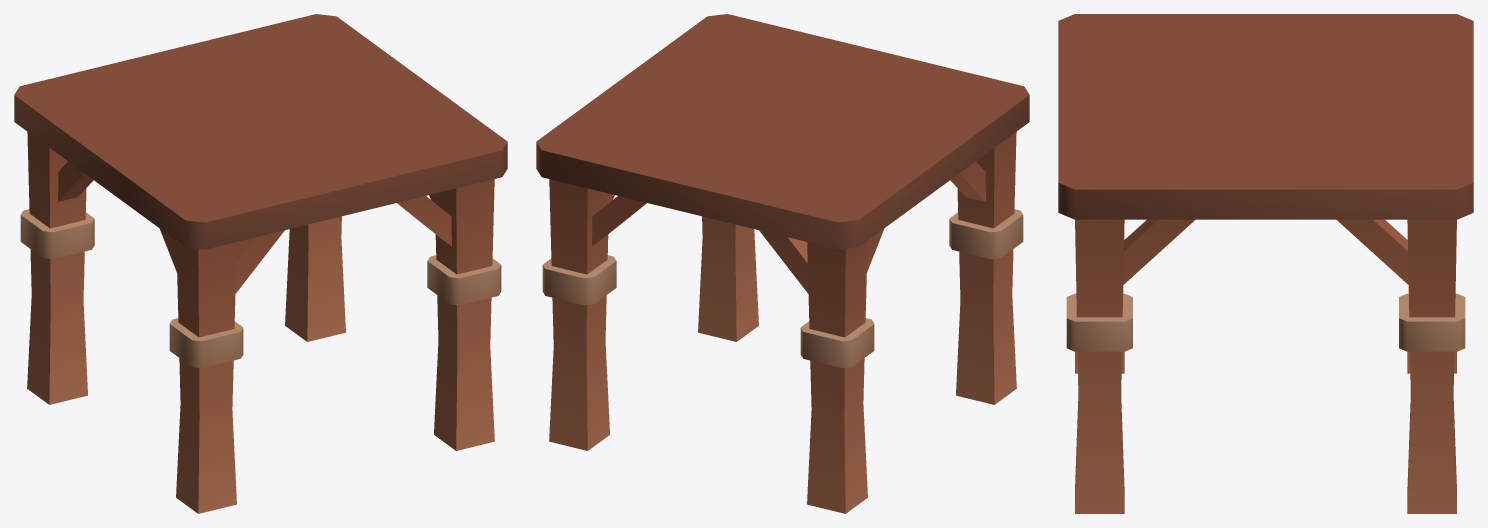
Rendered from structure.glb.
The picture shows the model from 3 angles, left to right: view 1: azimuth 30°, elevation 25°; view 2: azimuth 150°, elevation 25°; view 3: azimuth 270°, elevation 25°; orthographic projection. The views are drawn at different scales.
Parts seen in each view (by area): view 1: structure; view 2: structure; view 3: structure.
Boxes of the visible parts, x1,y1,x2,y2 form: structure: [14, 14, 507, 513]; structure: [536, 14, 1029, 513]; structure: [1058, 14, 1473, 513].
Bounding box in the file's own units: 2.5 × 2.2 × 2.5.
